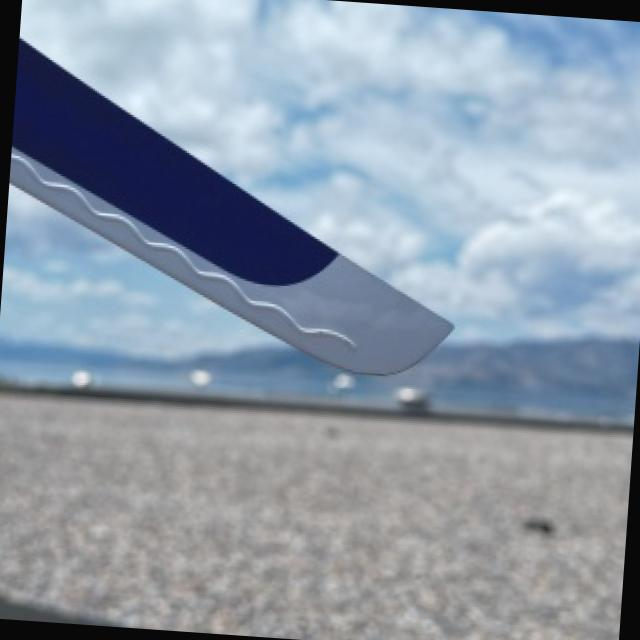healthy: (9, 40, 448, 368)
